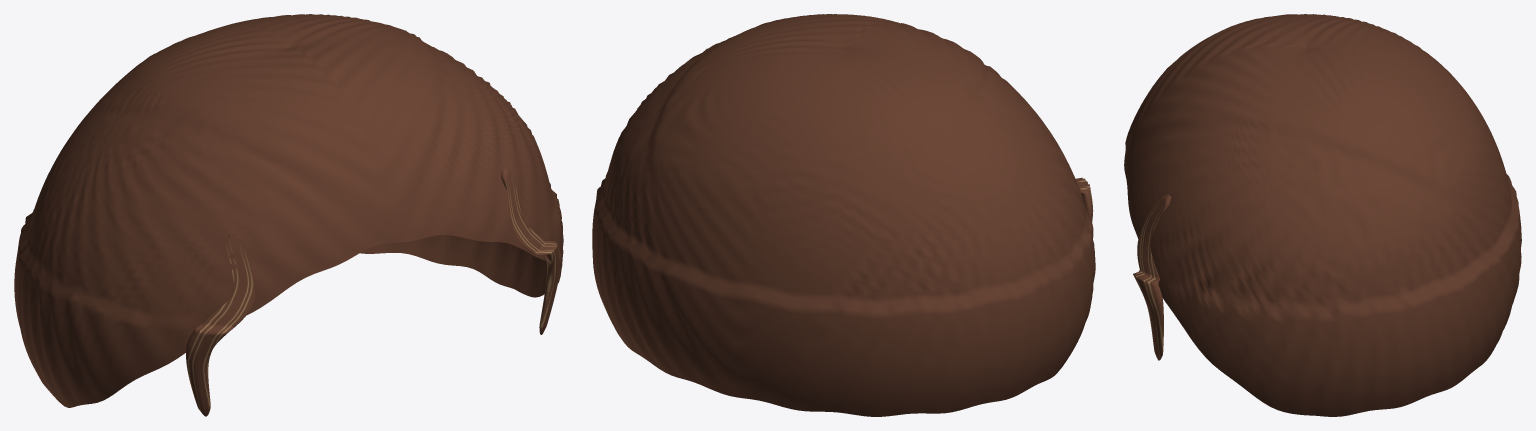
File: Highlights-7dde74563731252-hair.glb
The picture shows the model from 3 angles, left to right: view 1: azimuth 30°, elevation 25°; view 2: azimuth 150°, elevation 25°; view 3: azimuth 270°, elevation 25°; orthographic projection. The views are drawn at different scales.
Parts seen in each view (by area): view 1: 226 hair / Hair / chestnut226.002; view 2: 226 hair / Hair / chestnut226.002; view 3: 226 hair / Hair / chestnut226.002.
Boxes of the visible parts, left/top/right/bottom form: 226 hair / Hair / chestnut226.002: left=14, top=14, right=563, bottom=416; 226 hair / Hair / chestnut226.002: left=592, top=14, right=1095, bottom=416; 226 hair / Hair / chestnut226.002: left=1124, top=14, right=1521, bottom=416.
Size of the model in its own units: 0.9988 by 0.599 by 0.7845.
Materials: 1 (1 with a texture image).
